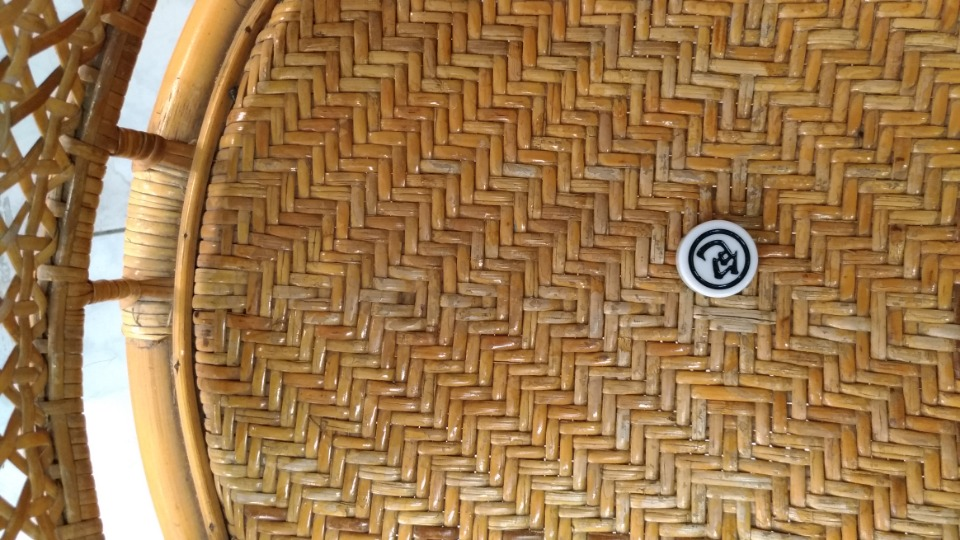b-cannon: (672, 214, 777, 311)
